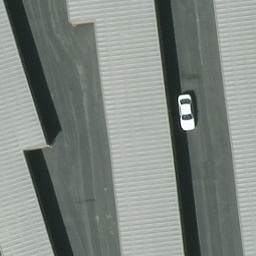car: (178, 94, 196, 130)
